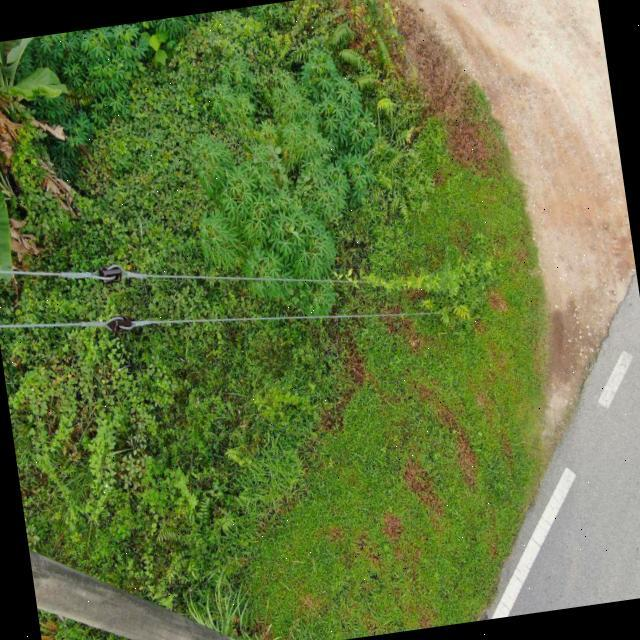critical vegetation: (334, 250, 468, 310)
